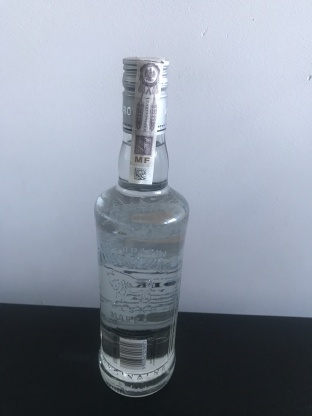nakretka: (117, 49, 172, 138)
